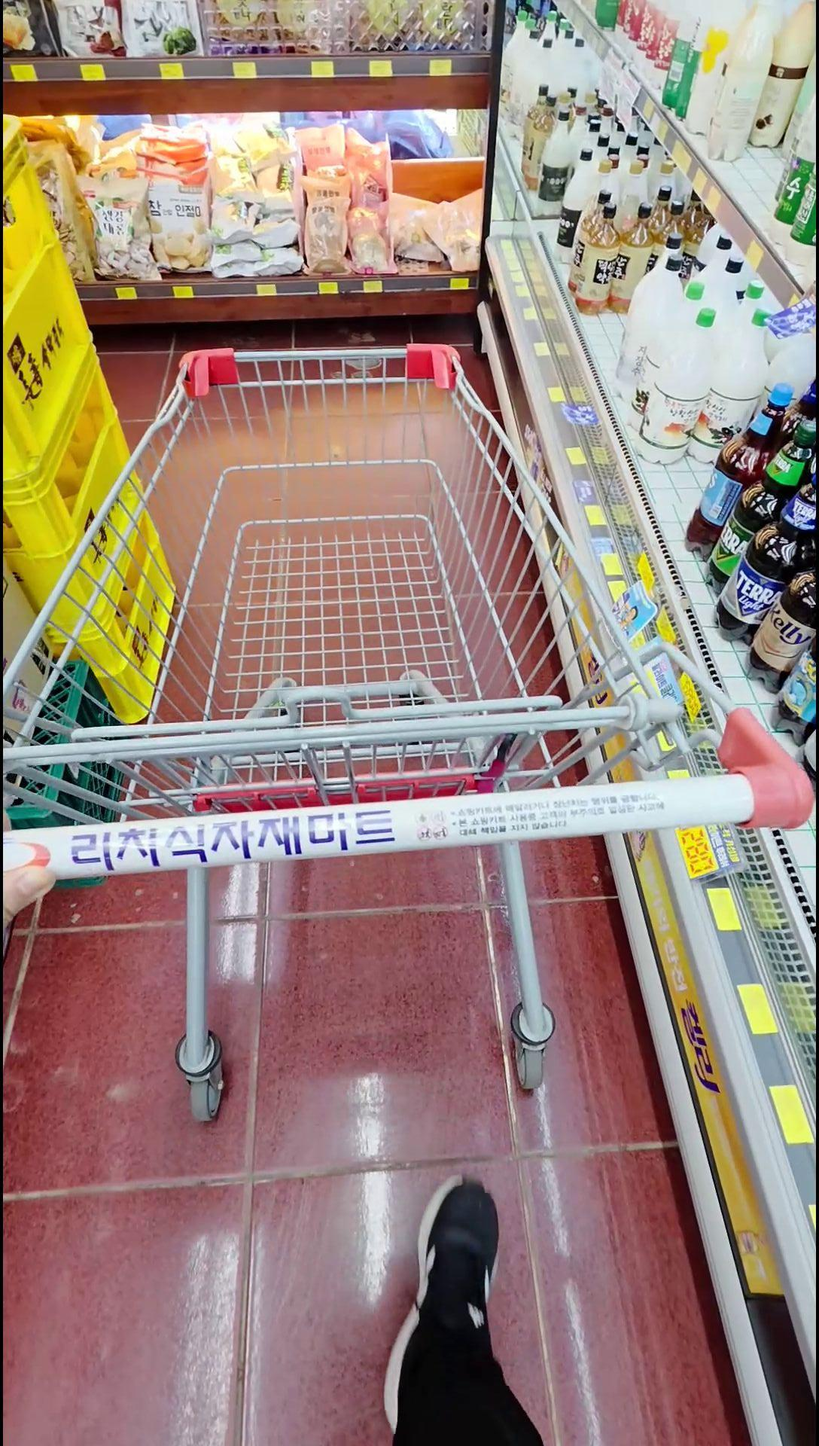empty_cart: (0, 339, 814, 1108)
